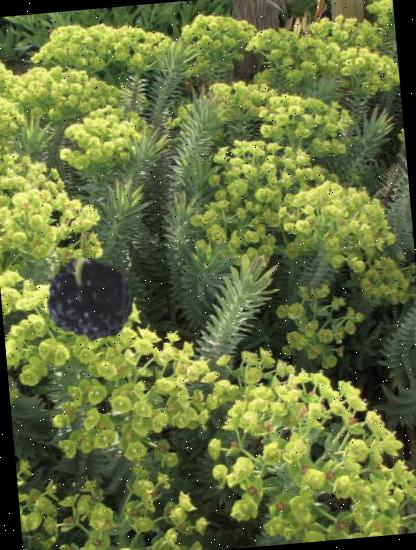Mulberry: (30, 243, 152, 365)
